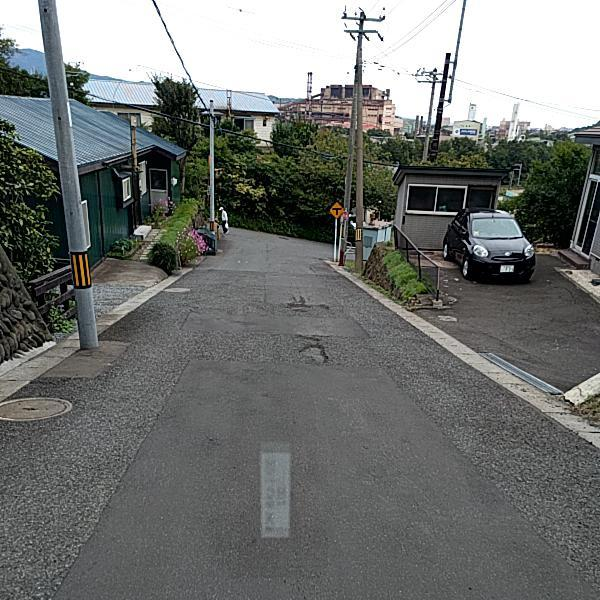D40: (294, 334, 332, 367)
D50: (0, 395, 74, 424)
